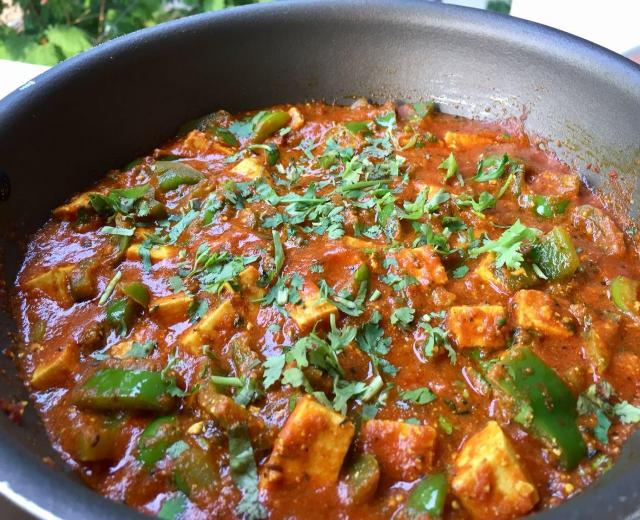kadai paneer: (0, 0, 634, 510), (1, 4, 625, 80), (5, 0, 296, 64), (137, 208, 281, 316), (535, 128, 635, 225), (0, 478, 74, 519), (0, 56, 52, 109)
